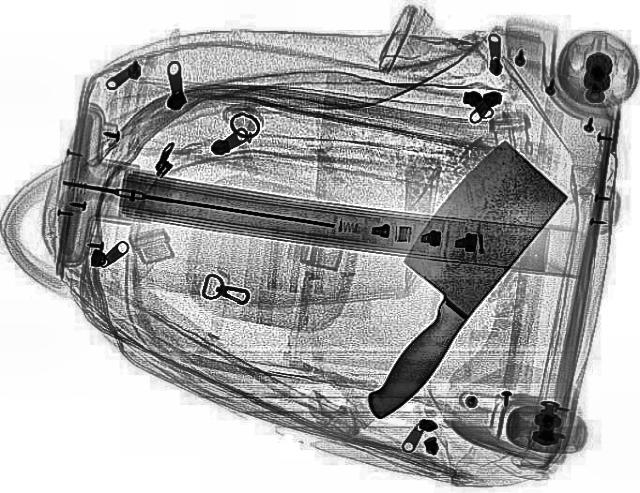Knife: (314, 132, 586, 434)
